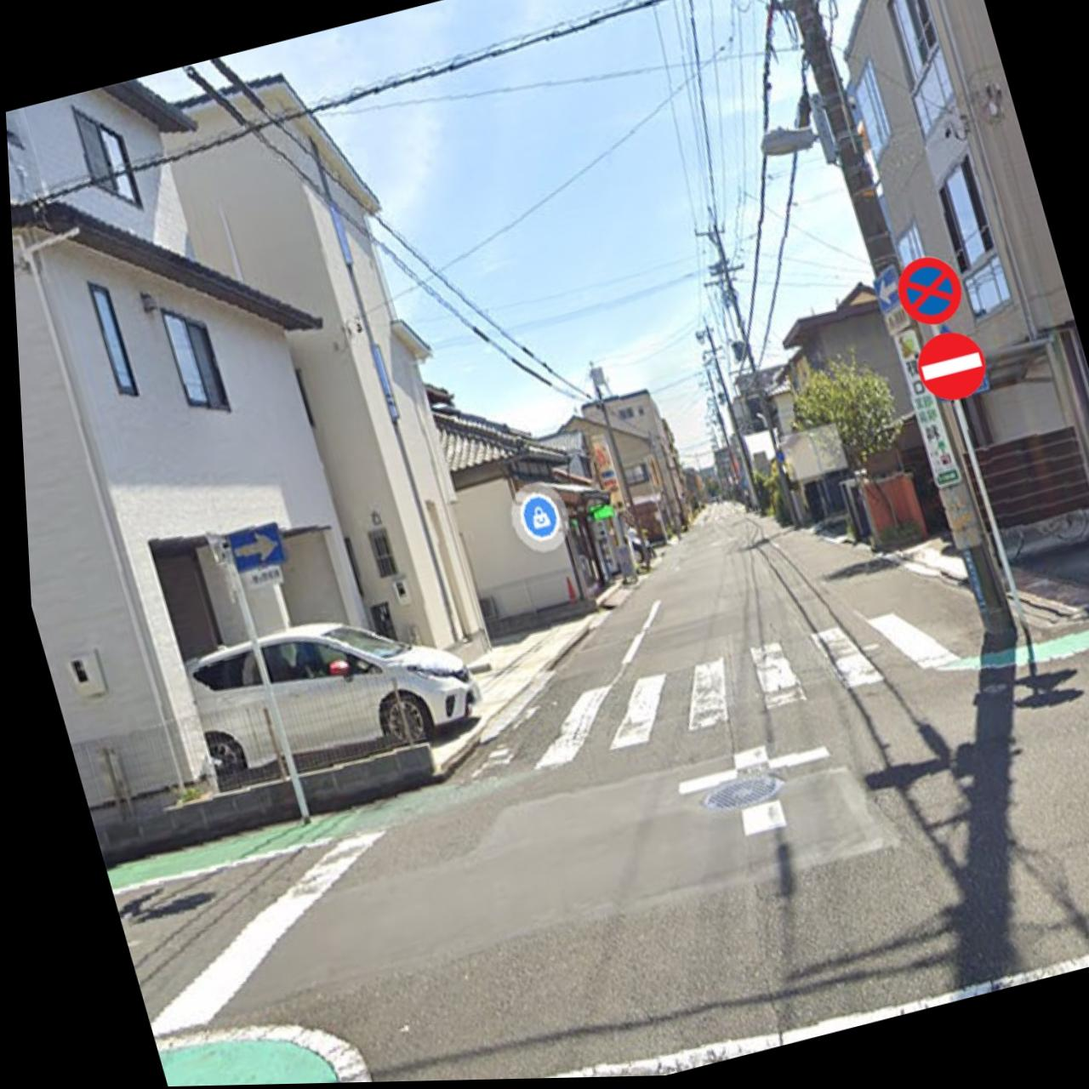barrier: (907, 322, 995, 407)
stop_sign: (886, 251, 971, 331)
